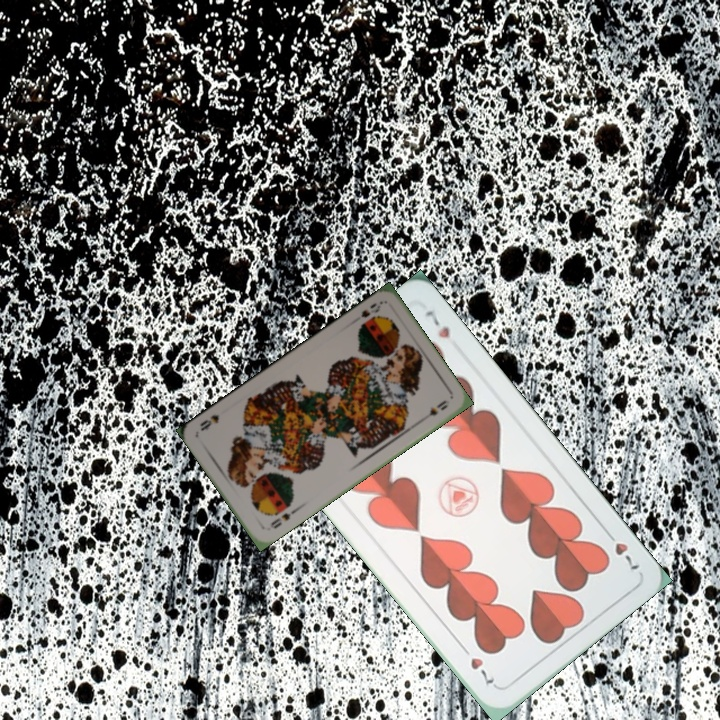H7: (600, 524, 642, 575)
SO: (267, 505, 299, 531), (357, 297, 384, 320)
